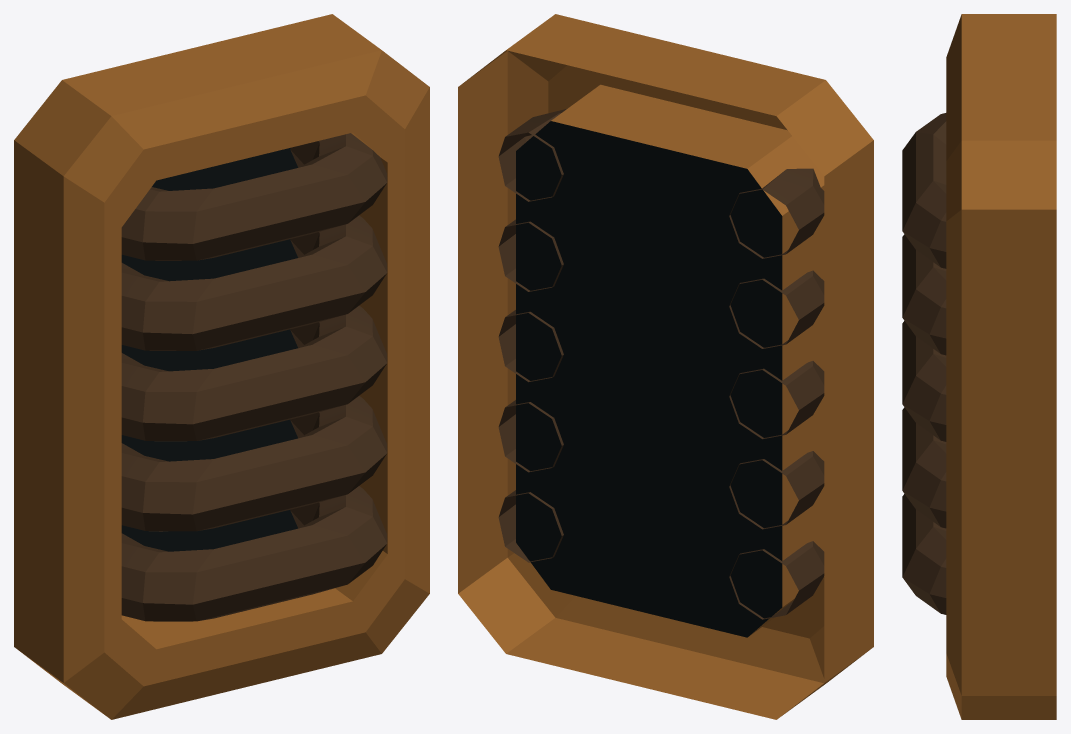
The model's file is Details_Vent_4.obj.
3 views of the same model, side by side, from view 1: azimuth 30°, elevation 25°; view 2: azimuth 150°, elevation 25°; view 3: azimuth 270°, elevation 25° (orthographic). The views are drawn at different scales.
Parts seen in each view (by area): view 1: Details_Vent_4; view 2: Details_Vent_4; view 3: Details_Vent_4.
Boxes of the visible parts, bbox=[...] form: Details_Vent_4: bbox=[14, 14, 429, 719]; Details_Vent_4: bbox=[458, 14, 873, 719]; Details_Vent_4: bbox=[902, 14, 1056, 719].
Size of the model in its own units: 0.2383 by 0.3753 by 0.0905.
